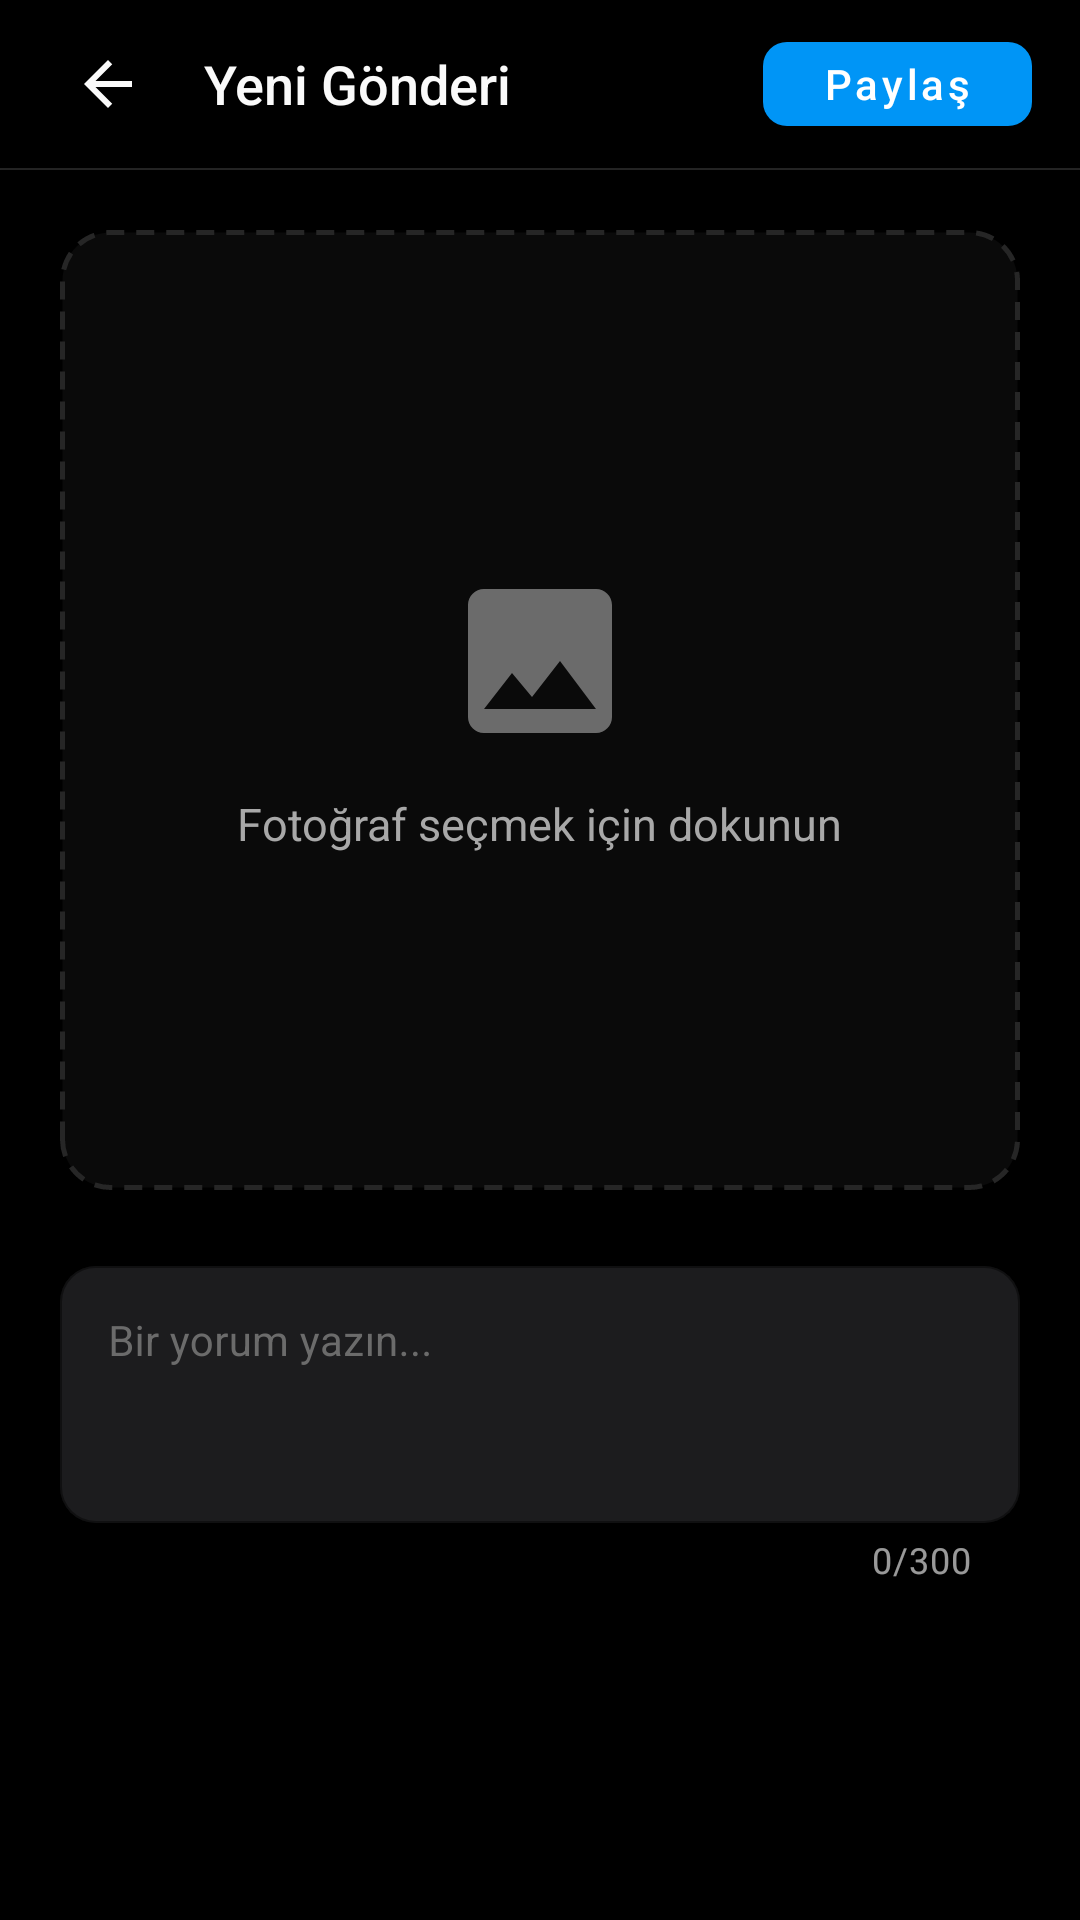

Icons on this 1080*1920 Android screen, each with the point to tap as (x=x, y=y):
Geri: (x=108, y=84)
